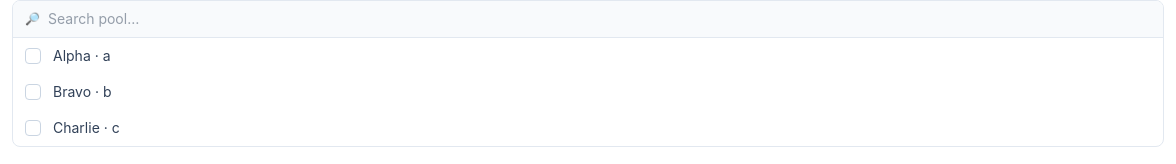
Test case: AssignList › shows the empty hint when nothing matches
The width and height of the screenshot is (1176, 164).
Type "zzz" into the search field.
click(600, 19); type("zzz")  # box [48,9,1151,29]
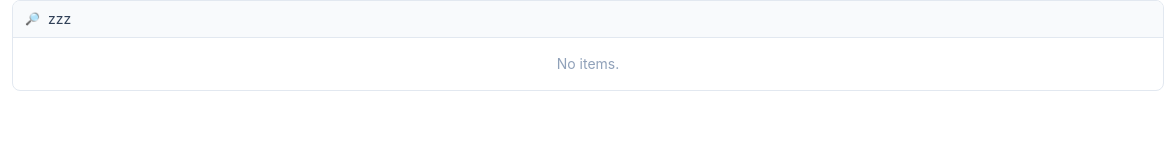
Expected: the list item "No items." is shown, [557,55,619,72]
